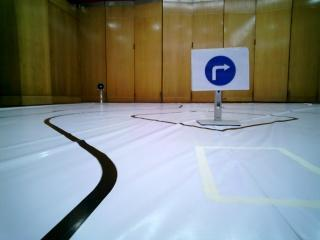right: (195, 51, 249, 84)
